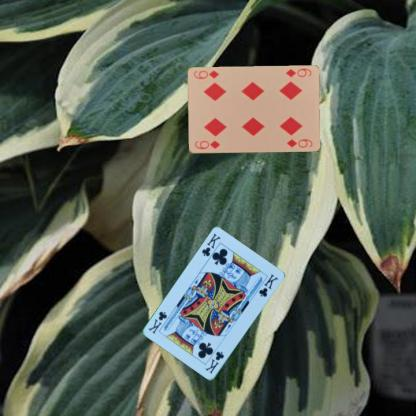6d: (192, 138, 222, 150), (283, 66, 313, 78)
Kc: (199, 231, 222, 258), (202, 349, 225, 375)
